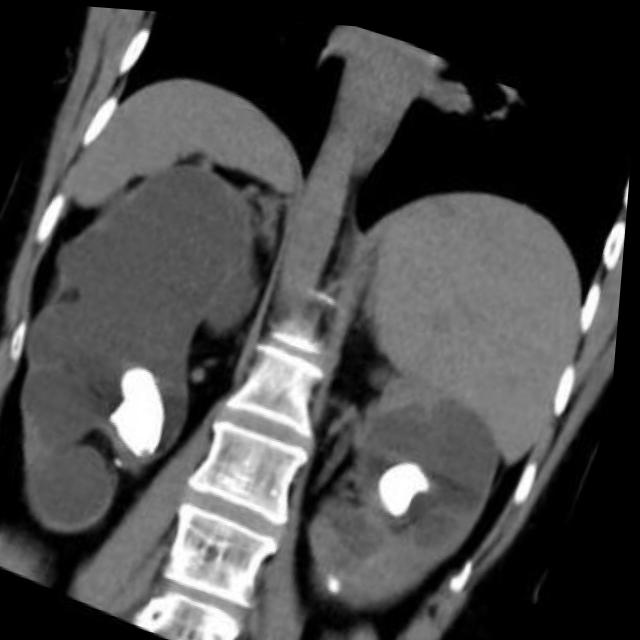Tas_Var: (100, 354, 194, 470), (366, 434, 447, 530), (326, 562, 359, 598), (115, 451, 135, 471)
